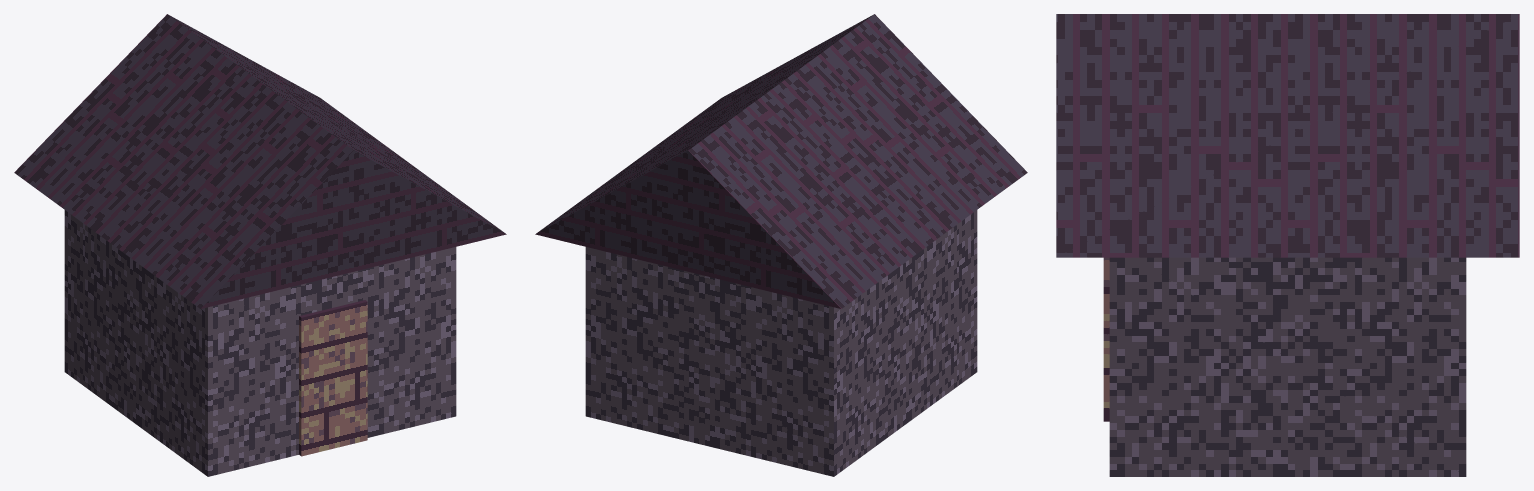
The model's file is mosteiro_ordem_luz_capela.glb.
3 views of the same model, side by side, from view 1: azimuth 30°, elevation 25°; view 2: azimuth 150°, elevation 25°; view 3: azimuth 270°, elevation 25° (orthographic). The views are drawn at different scales.
Parts seen in each view (by area): view 1: mosteiro_ordem_luz_capela; view 2: mosteiro_ordem_luz_capela; view 3: mosteiro_ordem_luz_capela.
Boxes of the visible parts, x1,y1,x2,y2 form: mosteiro_ordem_luz_capela: (14,14,506,476); mosteiro_ordem_luz_capela: (535,14,1027,476); mosteiro_ordem_luz_capela: (1056,14,1519,476).
Size of the model in its own units: 3.7 by 3.6 by 3.9.
3 materials, 3 textured.
